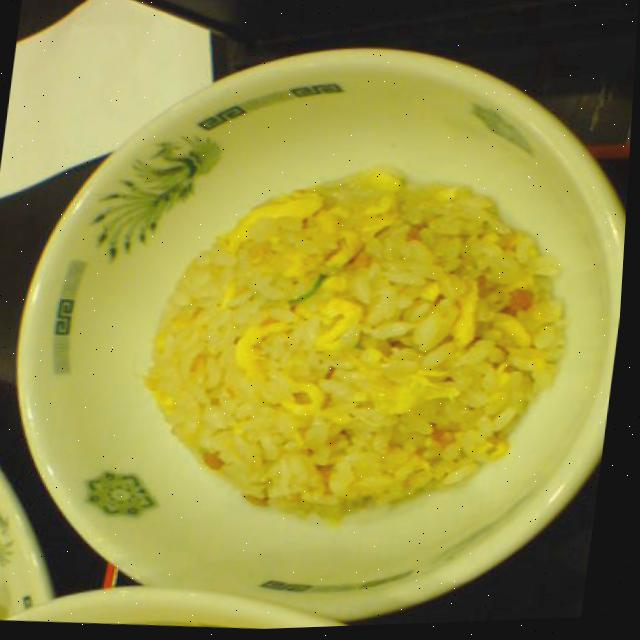米饭主食: (0, 15, 638, 640)
